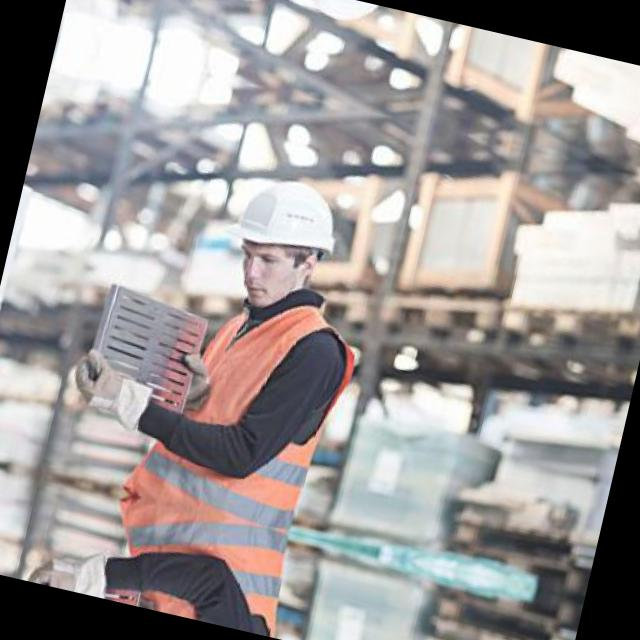helmet: (208, 154, 359, 323), (271, 0, 399, 46)
